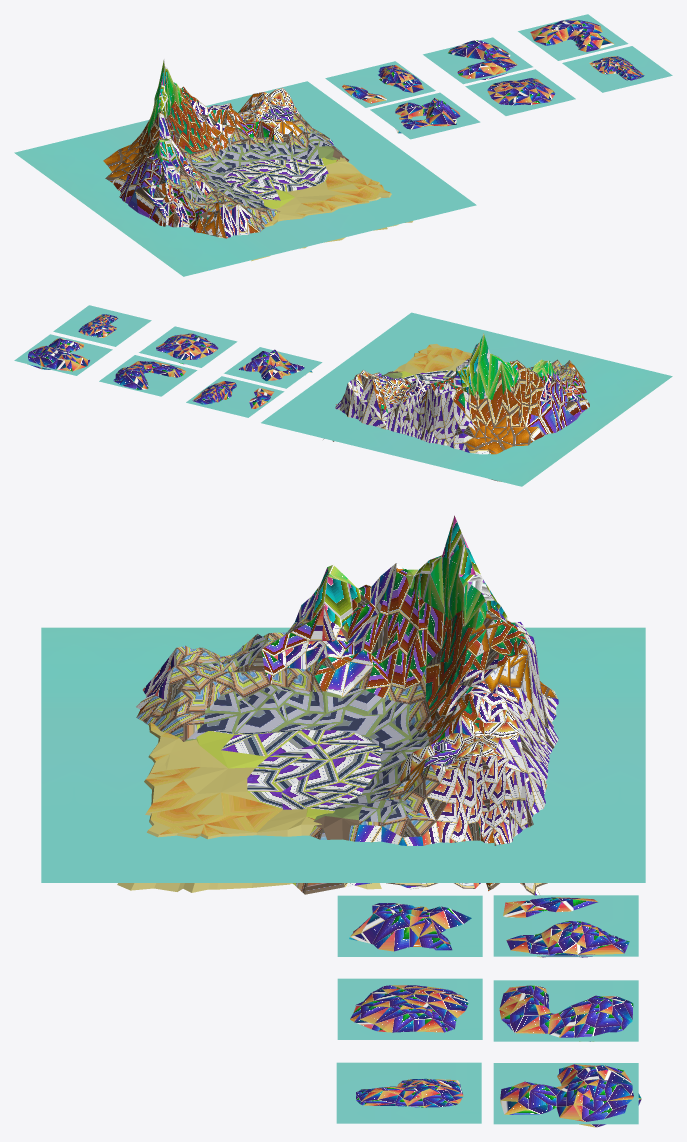
The model's file is Low Poly Pirate Landscapes.obj.
3 views of the same model, one above another, from view 1: azimuth 30°, elevation 25°; view 2: azimuth 150°, elevation 25°; view 3: azimuth 270°, elevation 25° (orthographic). The views are drawn at different scales.
Parts seen in each view (by area): view 1: Land_1, Water_1, Water_2, Water_7, Land_5, Land_6, Water_4, Water_3, Land_3, Water_6, Land_4, Water_5 (+2 smaller); view 2: Water_1, Land_1, Water_2, Water_7, Land_5, Water_4, Water_6, Water_3, Land_6, Land_3, Land_4, Water_5 (+2 smaller); view 3: Land_1, Water_1, Water_2, Land_5, Water_4, Water_7, Land_6, Water_3, Land_3, Water_6, Land_7, Land_4 (+2 smaller).
Part boxes in pixels (left/top/right/bottom): Land_1: left=103, top=59, right=412, bottom=261; Water_1: left=14, top=81, right=476, bottom=276; Water_2: left=562, top=46, right=672, bottom=92; Water_7: left=325, top=61, right=435, bottom=107; Land_5: left=530, top=20, right=614, bottom=51; Land_6: left=448, top=40, right=517, bottom=79; Water_4: left=370, top=92, right=480, bottom=139; Water_3: left=465, top=69, right=575, bottom=115; Land_3: left=487, top=78, right=555, bottom=105; Water_6: left=423, top=37, right=532, bottom=84; Land_4: left=395, top=98, right=460, bottom=133; Water_5: left=518, top=14, right=628, bottom=60; Water_1: left=261, top=312, right=672, bottom=486; Land_1: left=323, top=333, right=589, bottom=481; Water_2: left=53, top=305, right=151, bottom=346; Water_7: left=186, top=376, right=284, bottom=417; Land_5: left=27, top=338, right=90, bottom=371; Water_4: left=224, top=347, right=322, bottom=388; Water_6: left=99, top=355, right=197, bottom=396; Water_3: left=139, top=326, right=237, bottom=367; Land_6: left=113, top=361, right=185, bottom=389; Land_3: left=156, top=333, right=218, bottom=364; Land_4: left=238, top=349, right=312, bottom=381; Water_5: left=14, top=334, right=112, bottom=375; Land_1: left=117, top=515, right=558, bottom=895; Water_1: left=41, top=627, right=645, bottom=882; Water_2: left=336, top=1062, right=481, bottom=1123; Land_5: left=500, top=1064, right=641, bottom=1127; Water_4: left=337, top=895, right=482, bottom=956; Water_7: left=493, top=895, right=638, bottom=956; Land_6: left=499, top=985, right=633, bottom=1041; Water_3: left=337, top=978, right=482, bottom=1039; Land_3: left=350, top=985, right=468, bottom=1032; Water_6: left=493, top=980, right=638, bottom=1041; Land_7: left=503, top=897, right=629, bottom=957; Land_4: left=349, top=903, right=471, bottom=951.
Size of the model in its own units: 7018 by 1646 by 3591.
